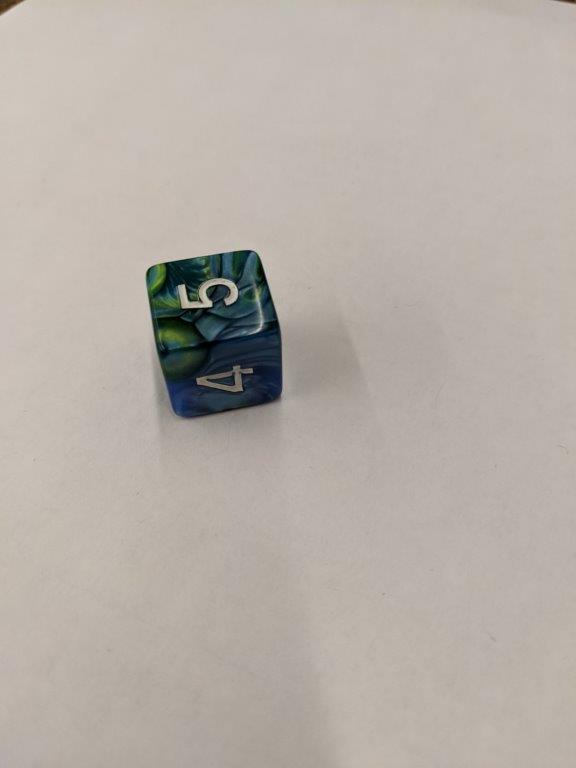d6-5: (143, 246, 283, 420)
